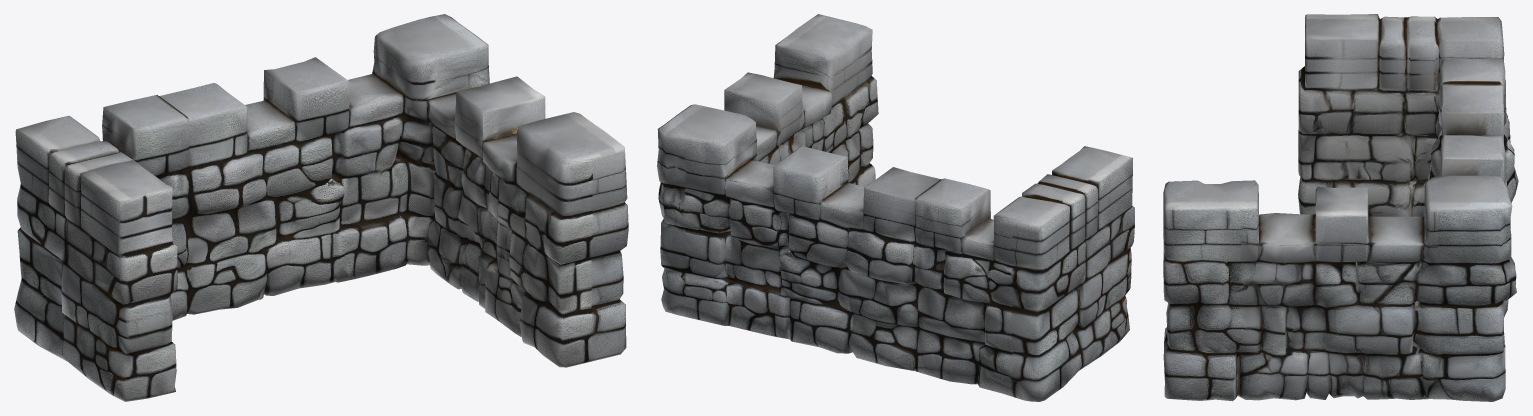
File: wall_straight.glb
3 views of the same model, side by side, from view 1: azimuth 30°, elevation 25°; view 2: azimuth 150°, elevation 25°; view 3: azimuth 270°, elevation 25° (orthographic). The views are drawn at different scales.
Parts seen in each view (by area): view 1: Mesh_0; view 2: Mesh_0; view 3: Mesh_0.
Boxes of the visible parts, x1=… form: Mesh_0: x1=14, y1=14, x2=628, y2=401; Mesh_0: x1=657, y1=14, x2=1134, y2=401; Mesh_0: x1=1163, y1=14, x2=1518, y2=401.
Size of the model in its own units: 4.44 by 2 by 3.32.
1 material, 1 textured.
